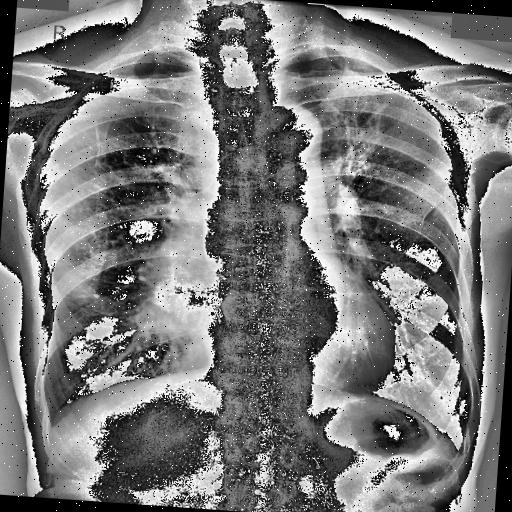0- Aortic enlargement: (262, 102, 323, 162)
13- Pulmonary fibrosis: (330, 90, 394, 182), (334, 98, 390, 178)
4- Consolidation: (128, 233, 216, 332)
7- Lung Opacity: (213, 290, 241, 326)
8- Nodule-Mass: (128, 233, 216, 332), (148, 244, 202, 322), (148, 265, 210, 323), (218, 292, 263, 322)
9- Other lesion: (218, 292, 263, 322), (213, 290, 241, 326)
